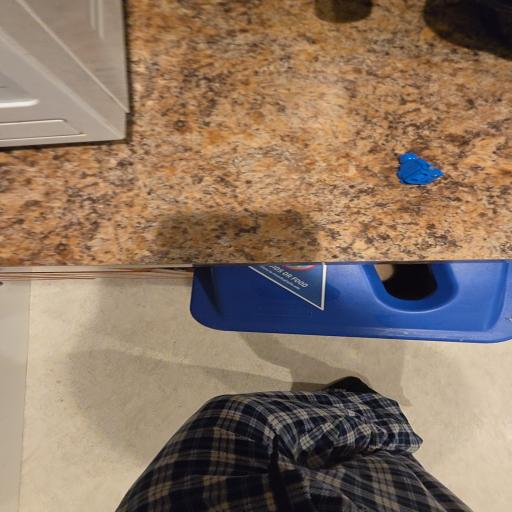Blue: (397, 153, 443, 185)
